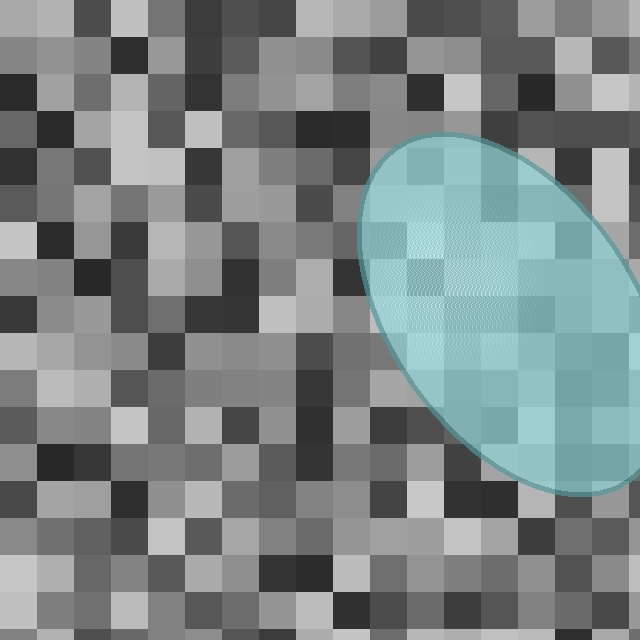lens: (359, 135, 640, 493)
